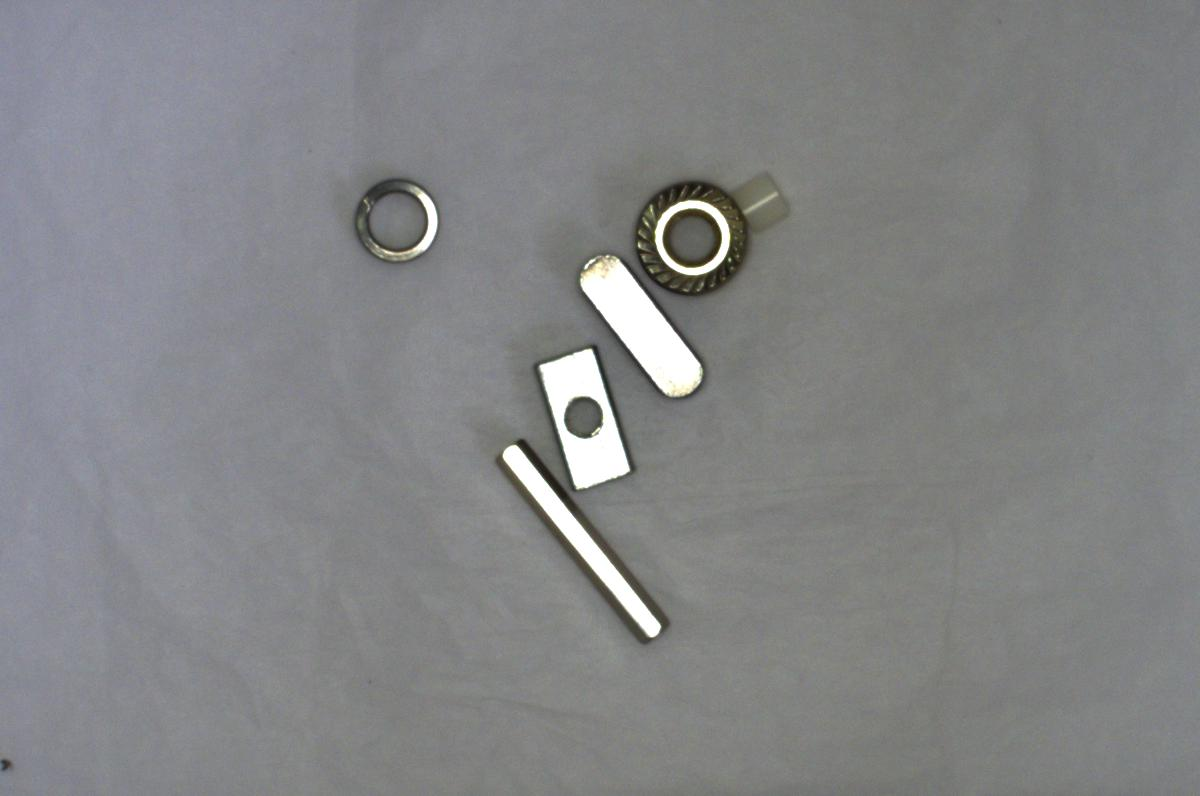Flange nut: (622, 175, 751, 303)
Keybar: (573, 253, 722, 406)
Plastic cushion pillar: (722, 161, 793, 232)
Rectangular nut: (531, 340, 635, 493)
Spring washer: (497, 432, 675, 650), (346, 169, 450, 282)
